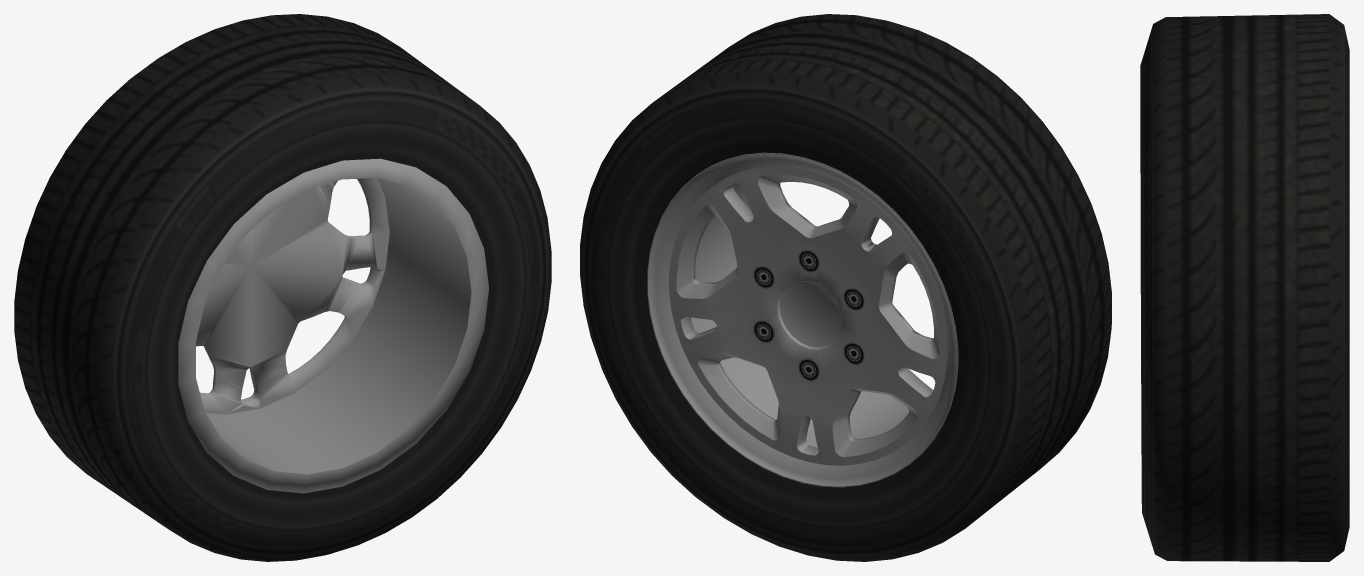
3 views of the same model, side by side, from view 1: azimuth 30°, elevation 25°; view 2: azimuth 150°, elevation 25°; view 3: azimuth 270°, elevation 25° (orthographic). The views are drawn at different scales.
Visible parts, largest first — view 1: U803_3A_901C_L_1_DM_U803_3A_901C_L, U803_3A_901C_L_U803_3A_901C_L_2_DaS; view 2: U803_3A_901C_L_1_DM_U803_3A_901C_L, U803_3A_901C_L_U803_3A_901C_L_2_DaS, U803_3A_901C_L_U803_3A_901C_L_3_D; view 3: U803_3A_901C_L_1_DM_U803_3A_901C_L.
Boxes of the visible parts, x1,y1,x2,y2 form: U803_3A_901C_L_1_DM_U803_3A_901C_L: (14,14,551,561); U803_3A_901C_L_U803_3A_901C_L_2_DaS: (178,158,488,493); U803_3A_901C_L_1_DM_U803_3A_901C_L: (580,14,1111,561); U803_3A_901C_L_U803_3A_901C_L_2_DaS: (647,152,958,487); U803_3A_901C_L_U803_3A_901C_L_3_D: (753,249,864,381); U803_3A_901C_L_1_DM_U803_3A_901C_L: (1140,14,1349,561).
Size of the model in its own units: 70.79 by 70.84 by 27.
